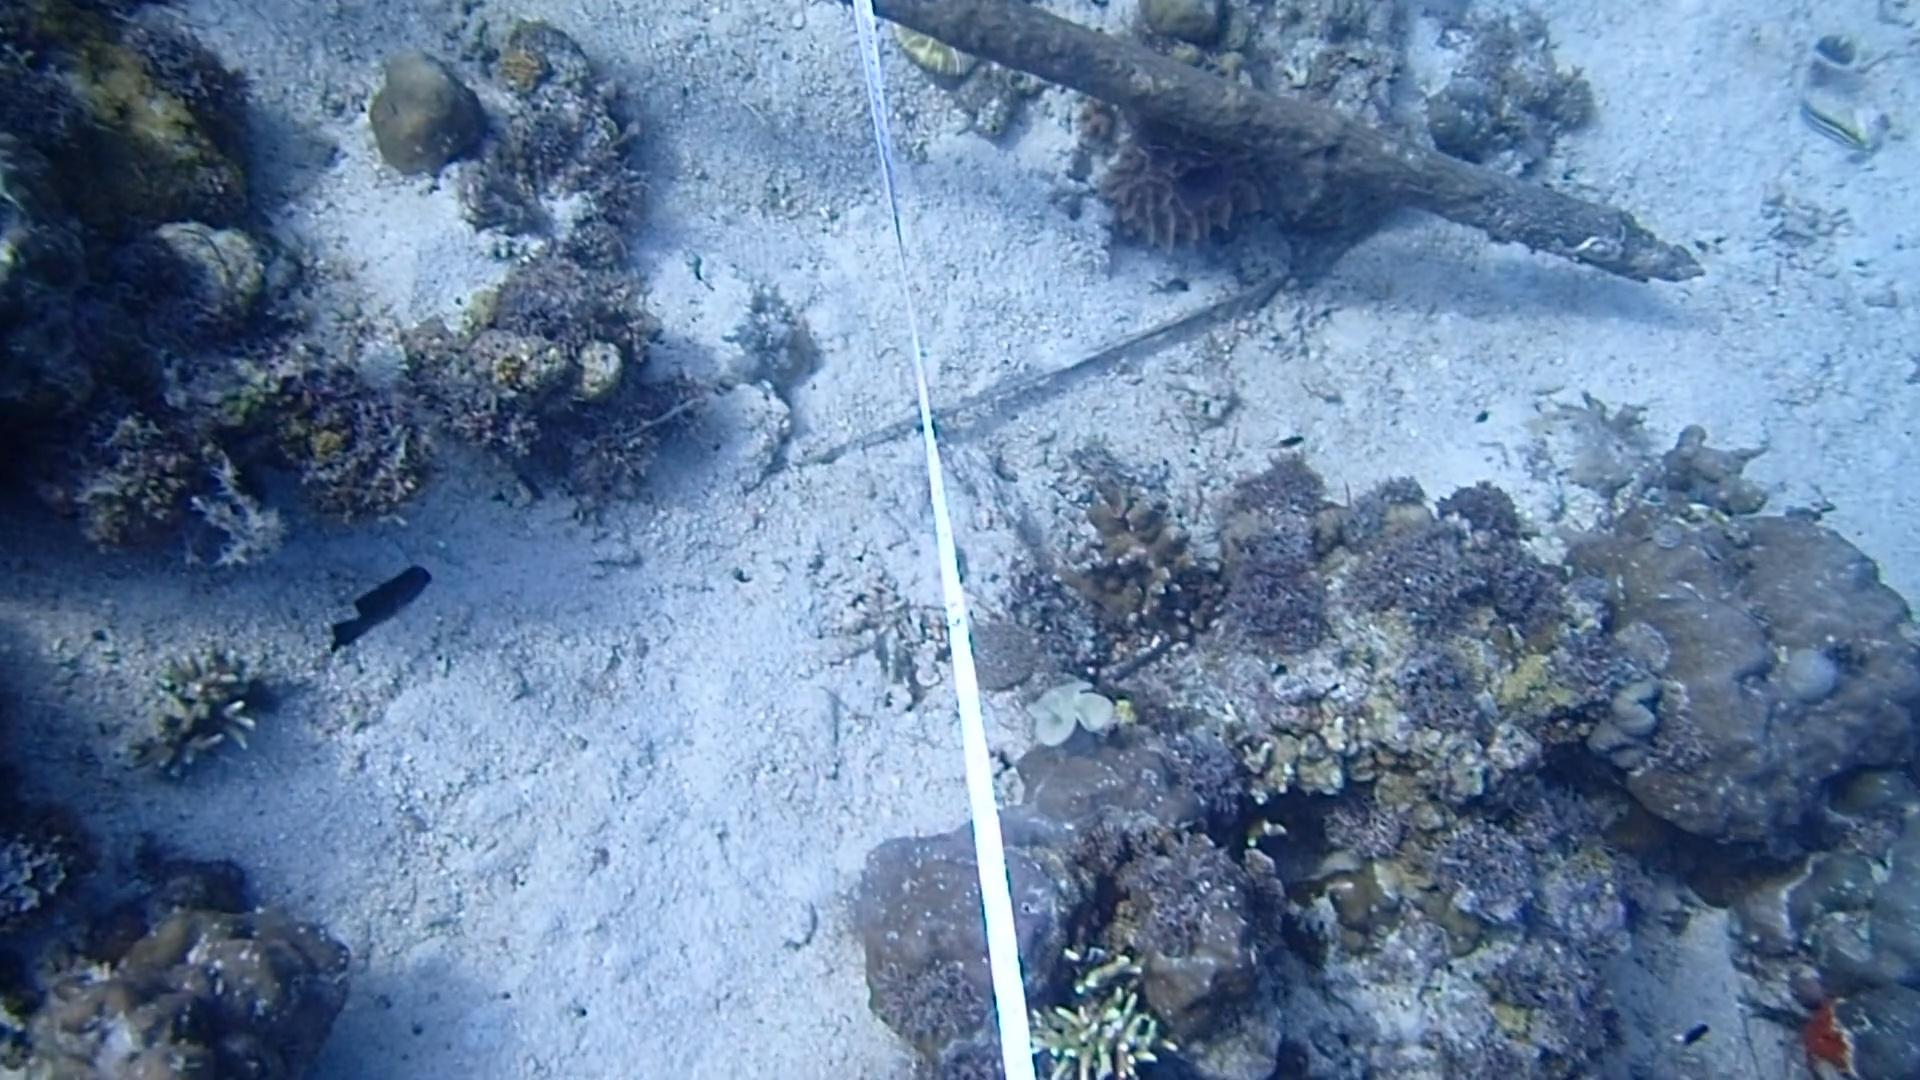Dark Fish: (331, 559, 439, 653)
Striped Fish: (1793, 90, 1869, 162)
